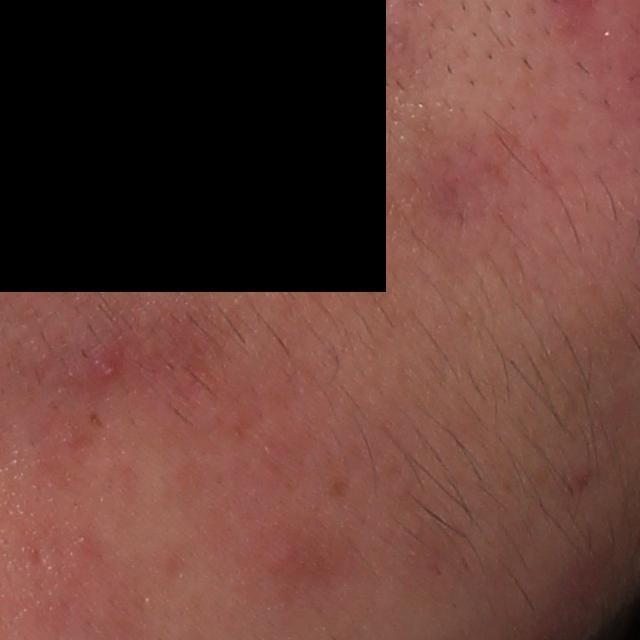papule: (85, 352, 120, 390)
